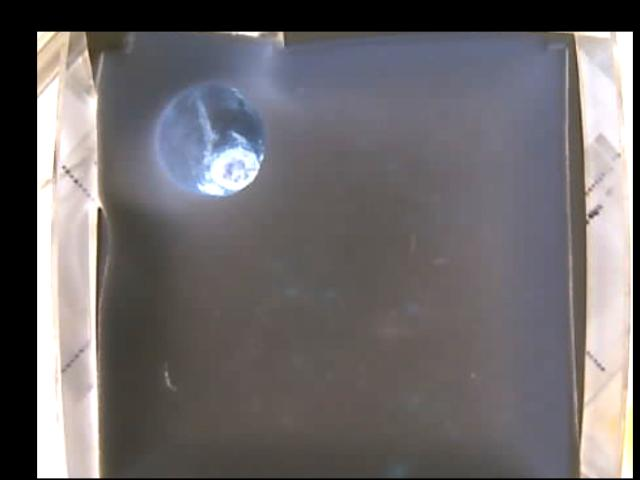Mooli: (154, 80, 265, 197)
